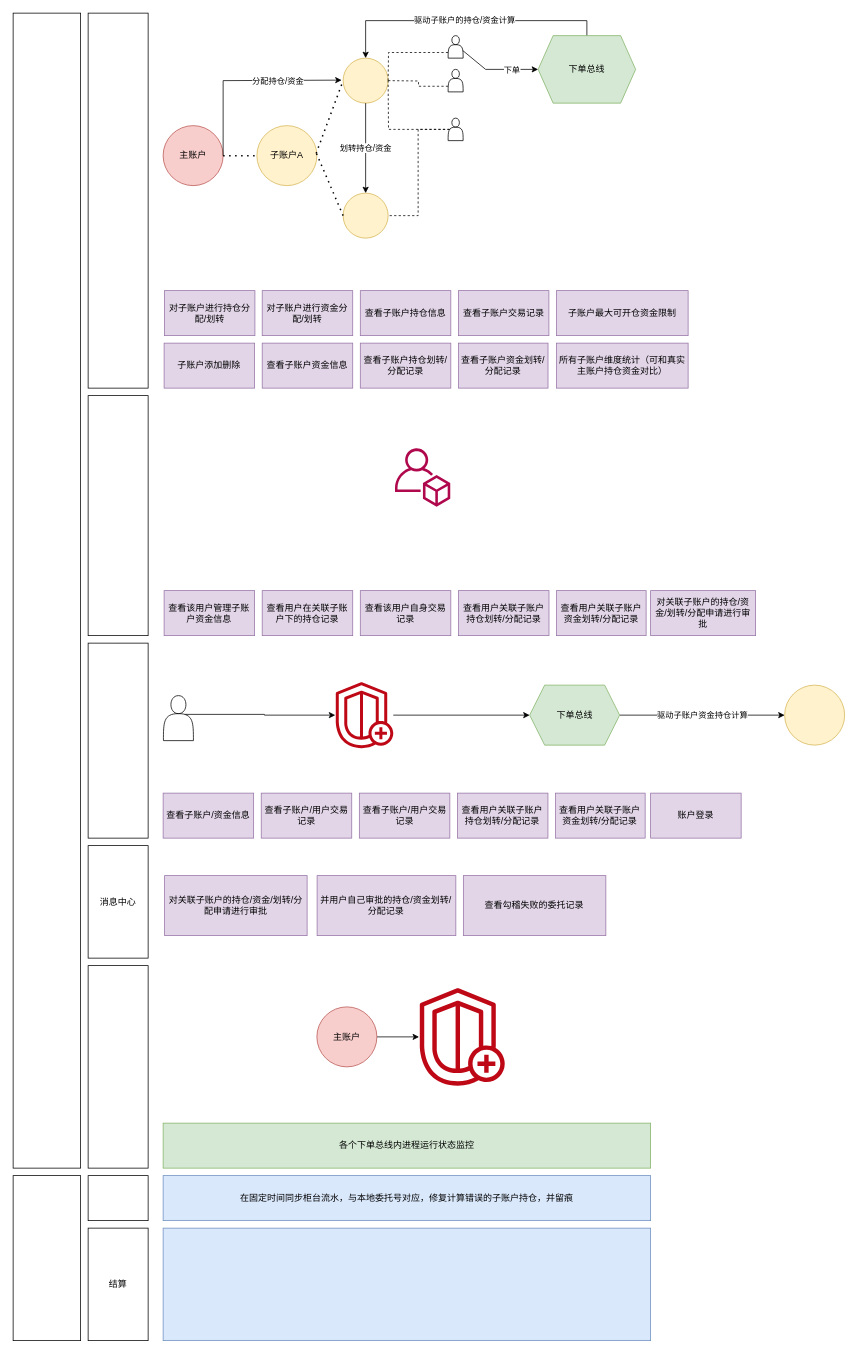
The diagram is 858 pixels wide and 1354 high, and some of its shapes have lost their labels. The shapes that lost their labels are listed below. From the top down, each one's centre as x and y in pixels, then its label:
At (x=365, y=80): "子账户A-1".
At (x=117, y=200): "子账户设置".
At (x=365, y=215): "子账户A-2".
At (x=422, y=477): "对用户进行添加/删除/分配子账户操作".
At (x=117, y=515): "用户管理".
At (x=46, y=590): "盘中".
At (x=364, y=715): "风控中台：【主账户级别：黑名单白名单】 【子账户级别：最大可开仓资金限制】".
At (x=814, y=714): "子账户".
At (x=117, y=740): "交易员交易".
At (x=461, y=1036): "黑白名单风控设置".
At (x=117, y=1066): "下单总线设置".
At (x=117, y=1198): "勾稽".
At (x=46, y=1258): "盘后".
At (x=406, y=1284): "对所有子账户持仓今昨进行调整 根据结算价重新计算当日浮动盈亏 对于期货不同交易所不同结算需求的处理，如只算单边保证金".
